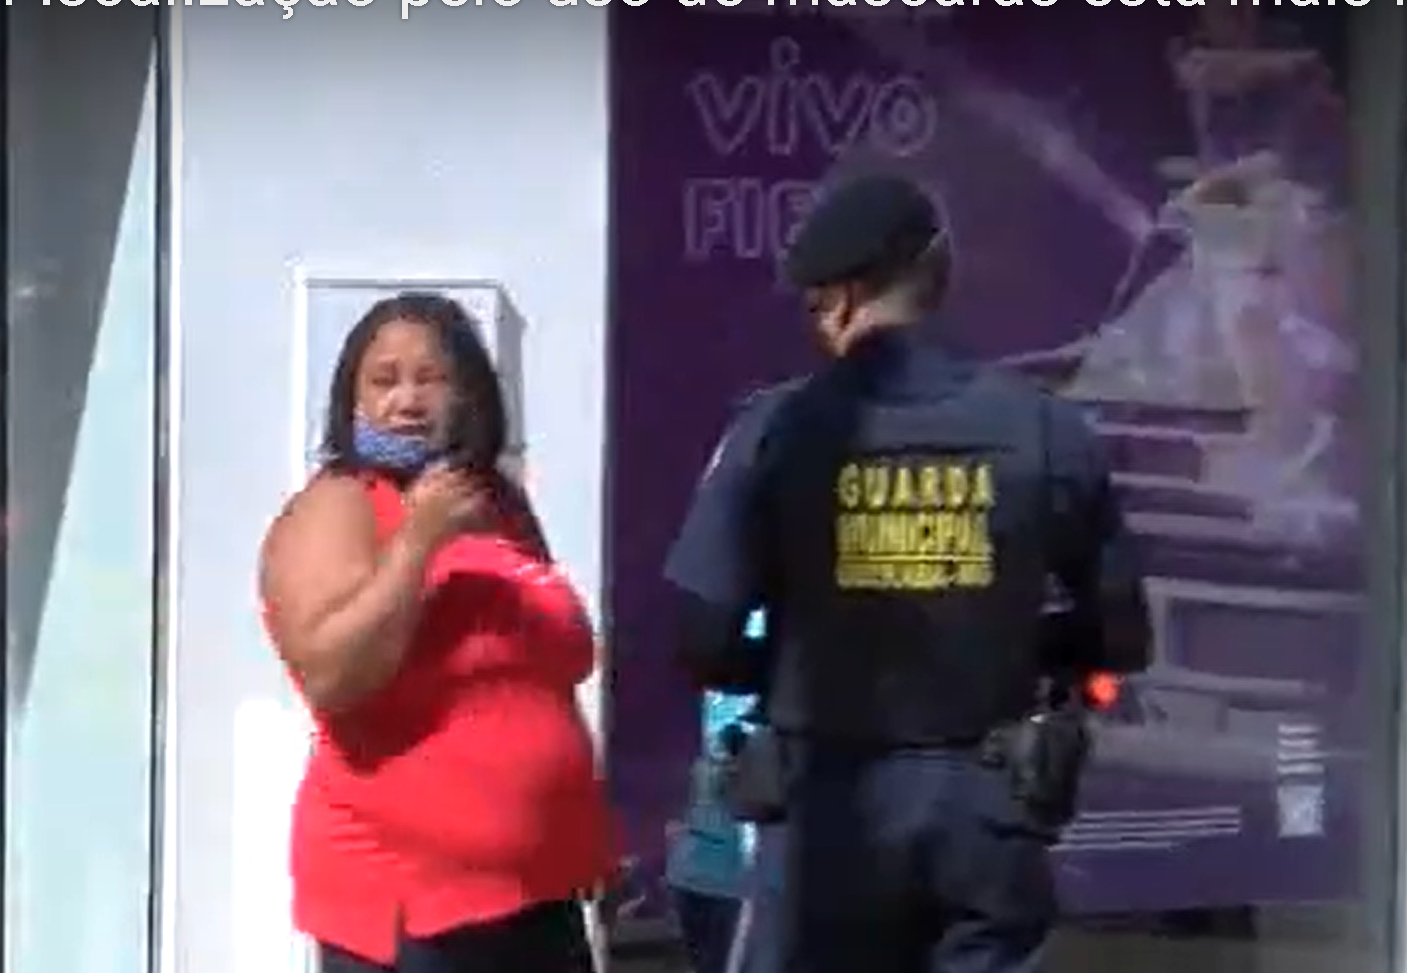mask_weared_incorrect: (342, 339, 468, 476)
